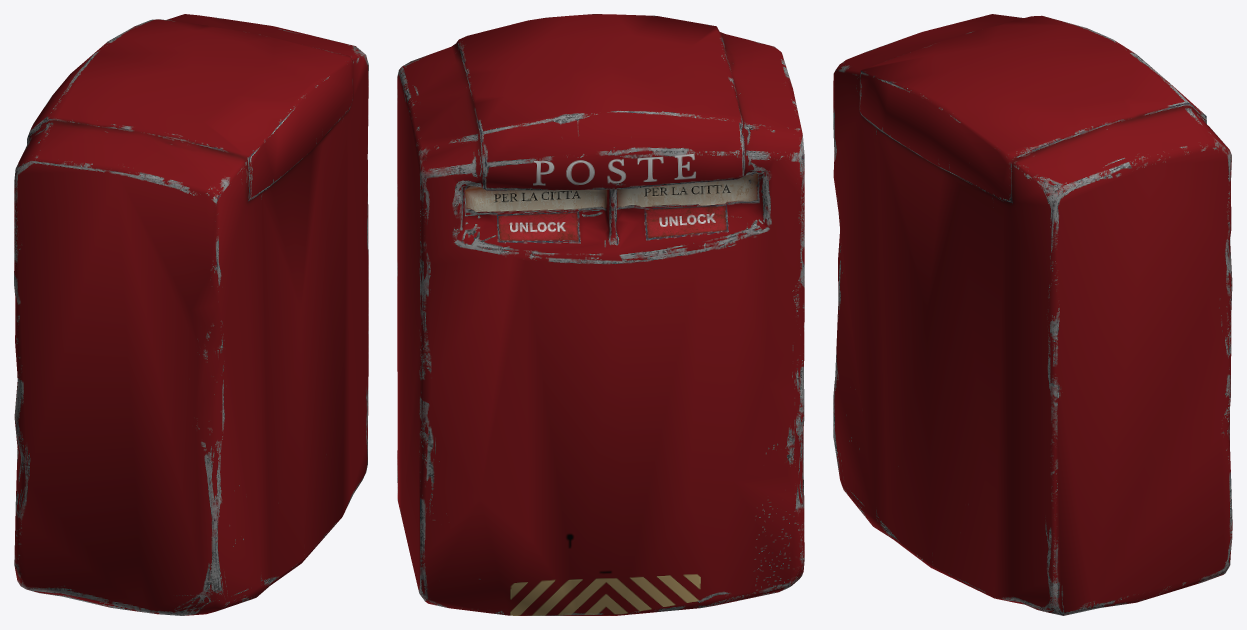
The picture shows the model from 3 angles, left to right: view 1: azimuth 30°, elevation 25°; view 2: azimuth 150°, elevation 25°; view 3: azimuth 270°, elevation 25°; orthographic projection. The views are drawn at different scales.
Visible parts, largest first — view 1: SM_mailbox_Prefab__1_; view 2: SM_mailbox_Prefab__1_; view 3: SM_mailbox_Prefab__1_.
Boxes of the visible parts, x1,y1,x2,y2 form: SM_mailbox_Prefab__1_: (14,14,368,615); SM_mailbox_Prefab__1_: (397,14,804,615); SM_mailbox_Prefab__1_: (833,14,1232,615).
Bounding box in the file's own units: 103 × 128 × 95.11.
